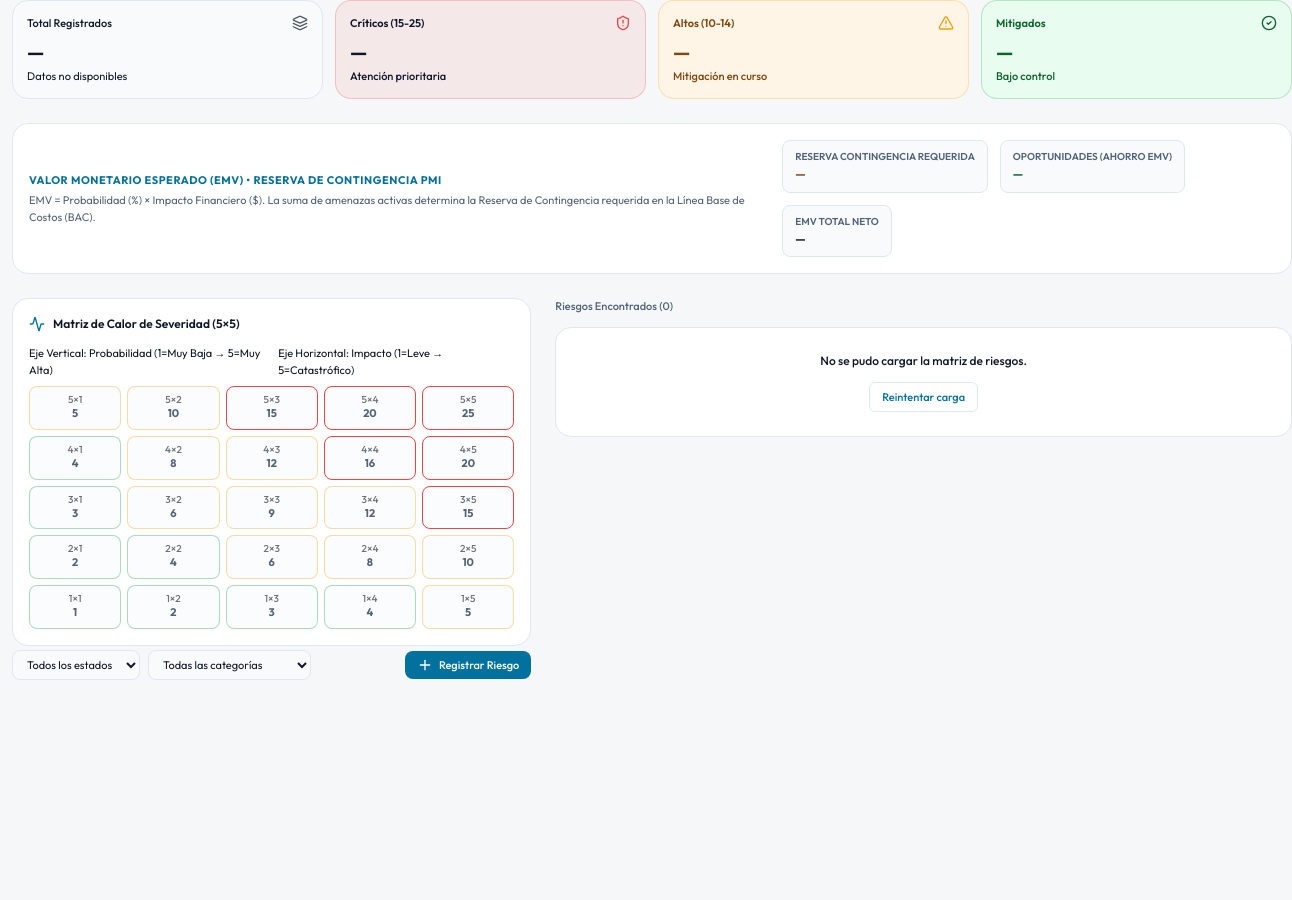
Test: ProjectRiskMatrixDrawer owner flow › keeps a failed lookup separate from an empty matrix and retries successfully
Expected: the message shows "No se pudo cargar la matriz de riesgos.", 820,352 -> 1027,368
Expected: the text "No hay riesgos registrados con estos filtros" is not shown
Click the button "Reintentar carga" at point(924, 397), box 869,382 -> 978,412
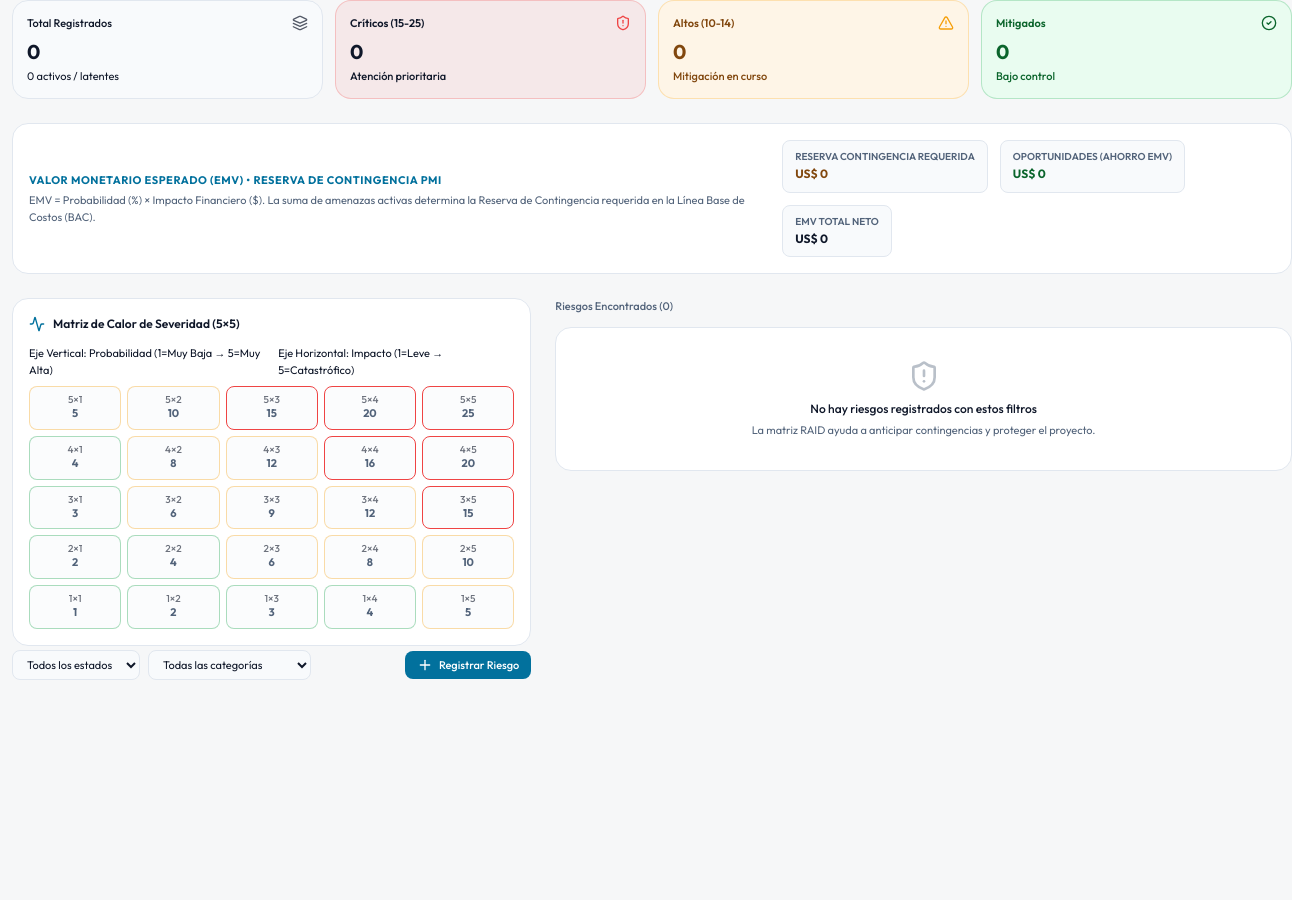
Result: the text "No hay riesgos registrados con estos filtros" is shown at 810,400 -> 1037,416
